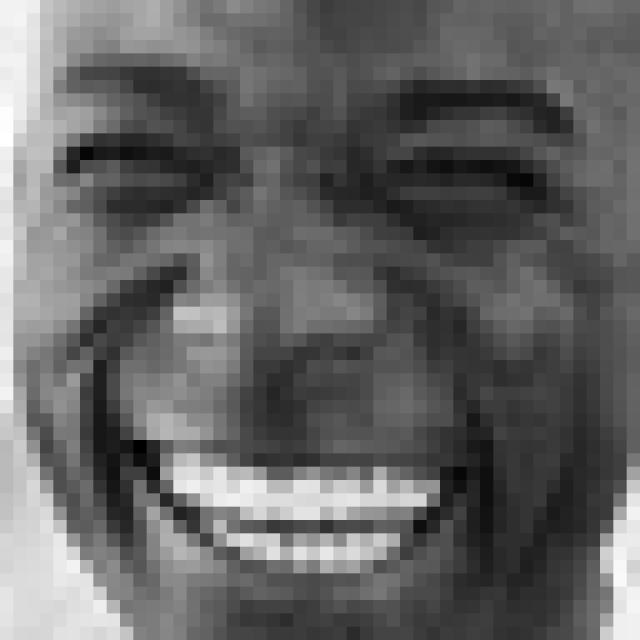happy: (42, 52, 591, 614)
